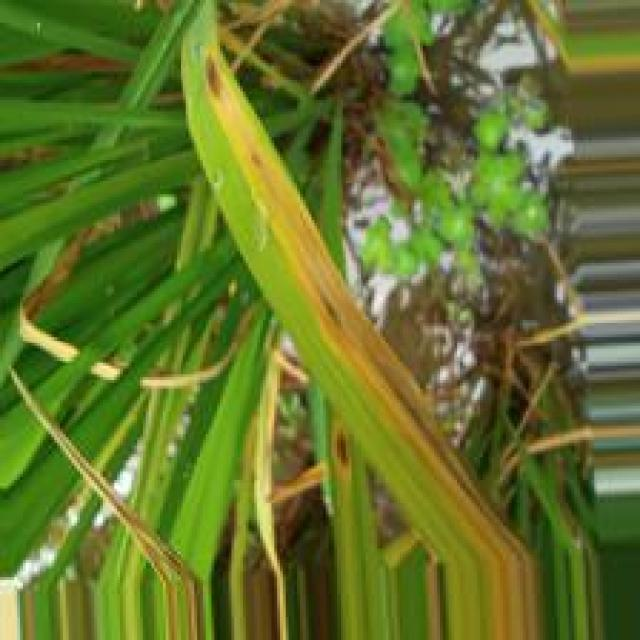Narrow_Brown_Leaf_Spot: (195, 33, 530, 562), (332, 416, 361, 505)
